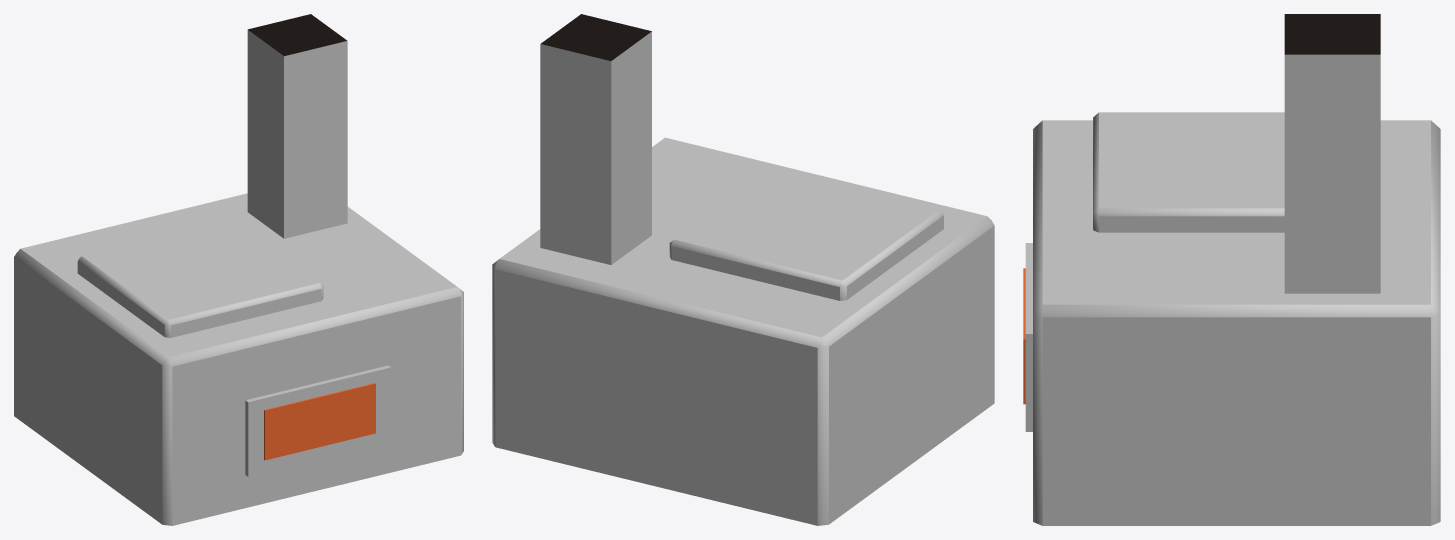
Rendered from crematorium.obj.
3 views of the same model, side by side, from view 1: azimuth 30°, elevation 25°; view 2: azimuth 150°, elevation 25°; view 3: azimuth 270°, elevation 25° (orthographic). The views are drawn at different scales.
Parts seen in each view (by area): view 1: crematorium_body, retained_15, top_access_cover, retained_5, retained_10; view 2: crematorium_body, retained_15, top_access_cover; view 3: crematorium_body, retained_15, top_access_cover, retained_5.
Part boxes in pixels (x1,y1,x2,y2): crematorium_body: [14, 193, 463, 525]; retained_15: [247, 14, 347, 238]; top_access_cover: [77, 219, 323, 337]; retained_5: [245, 365, 390, 476]; retained_10: [264, 383, 375, 460]; crematorium_body: [492, 137, 994, 525]; retained_15: [540, 14, 651, 264]; top_access_cover: [669, 168, 943, 300]; crematorium_body: [1033, 120, 1440, 525]; retained_15: [1284, 14, 1380, 293]; top_access_cover: [1093, 112, 1284, 232]; retained_5: [1025, 243, 1032, 431].
Bounding box in the file's own units: 1.9 × 2.1 × 1.74.
